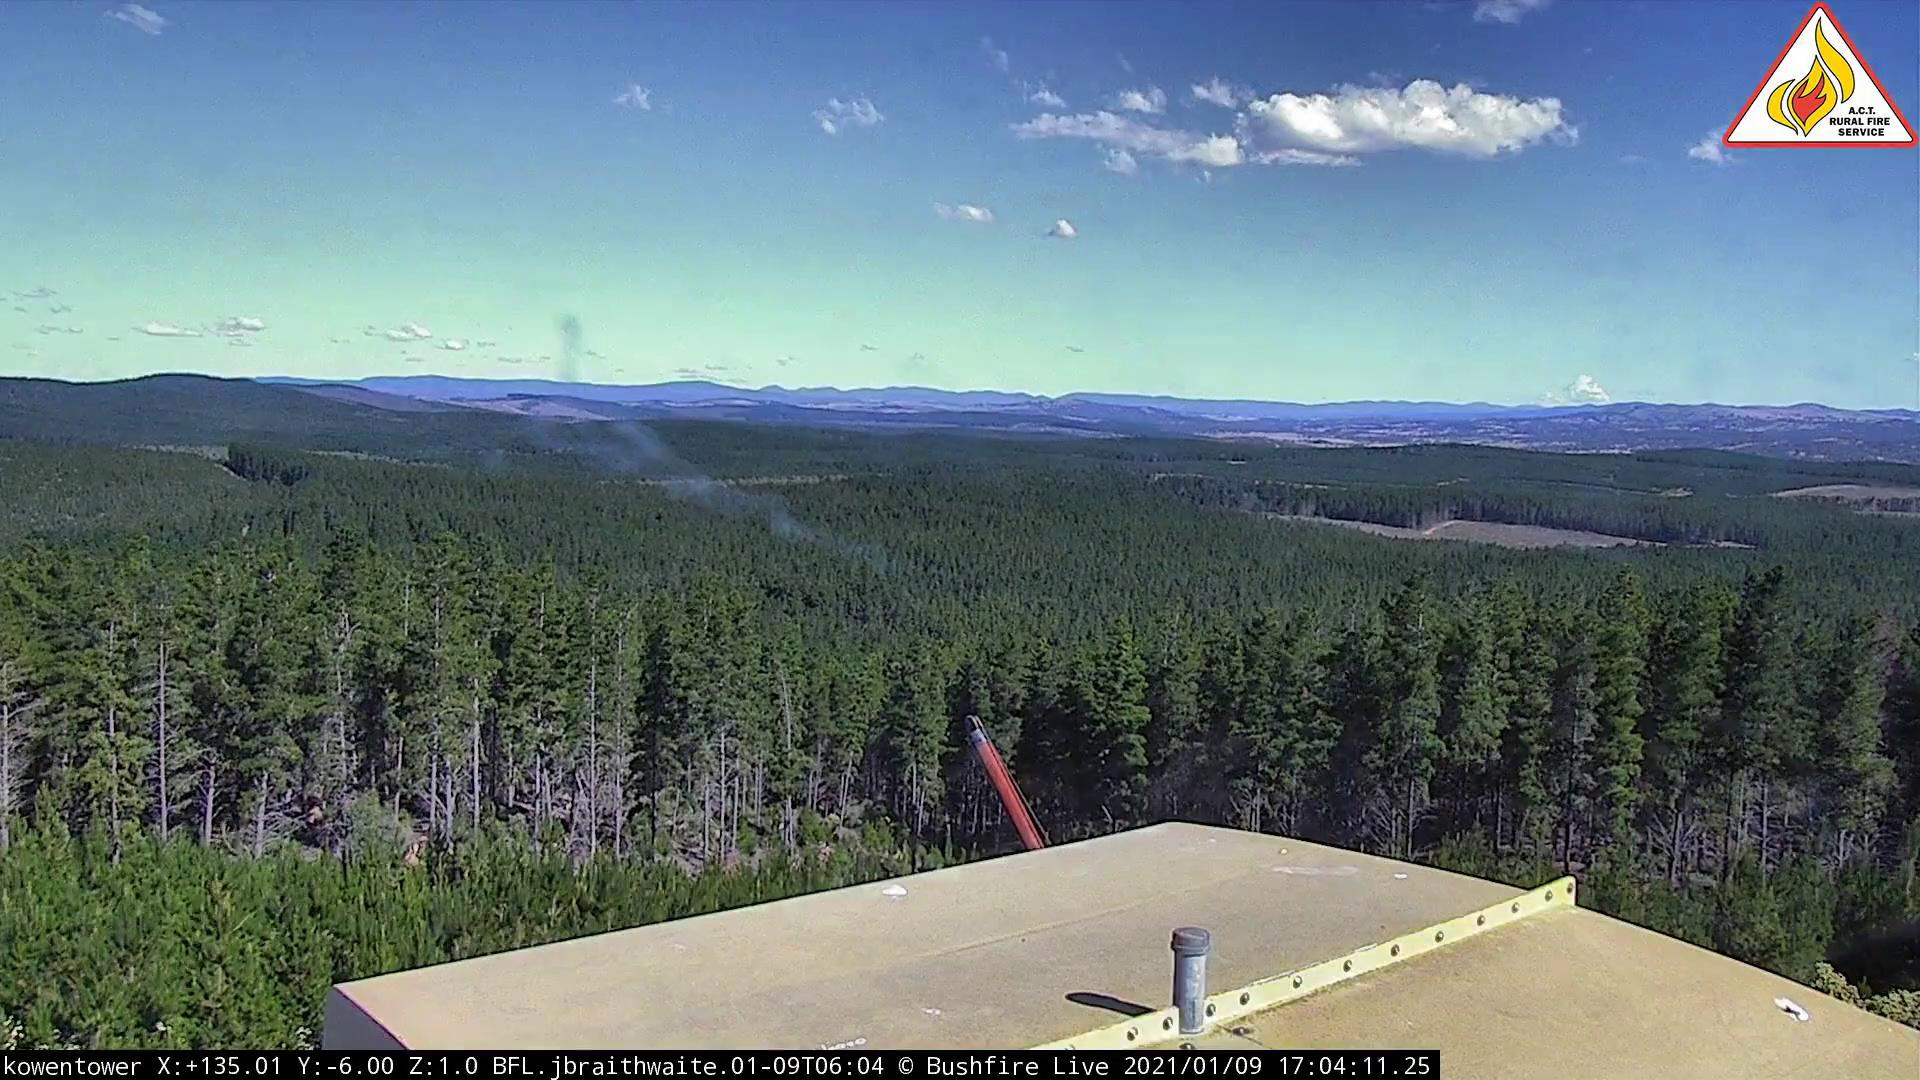Smoke: (400, 324, 899, 576)
